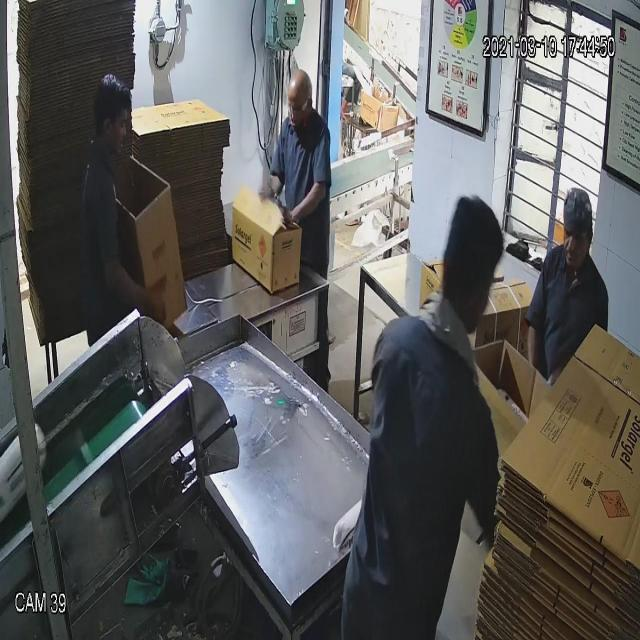No_Gloves: (59, 52, 306, 294)
